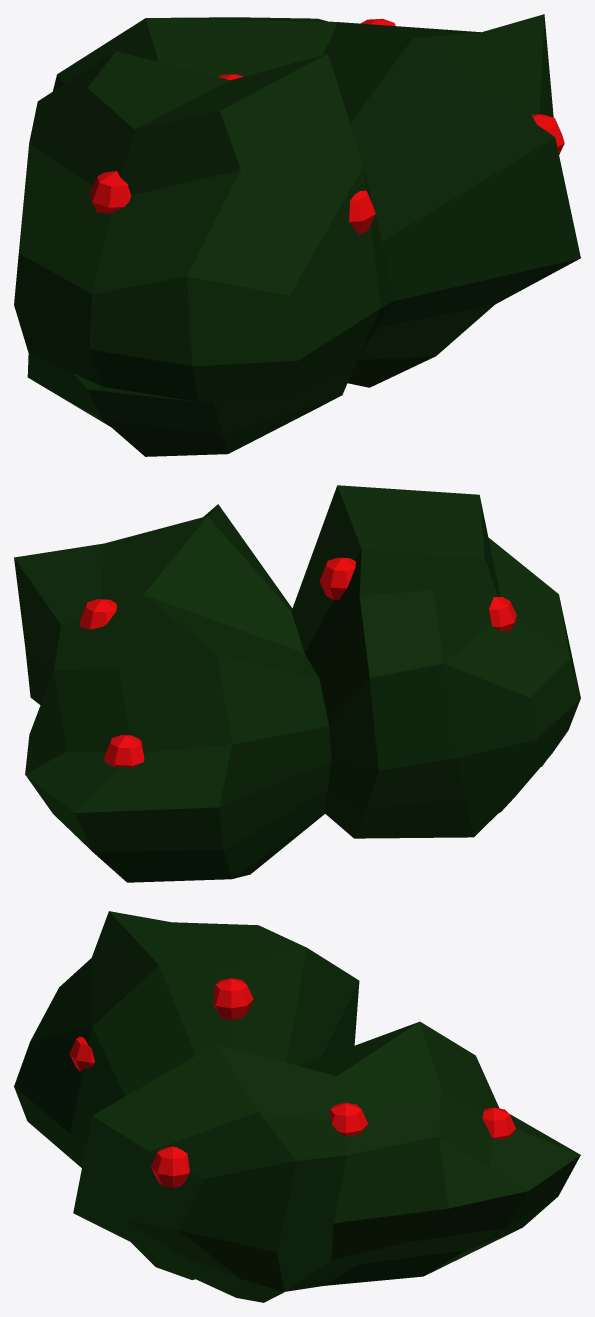
File: Bush_1.FBX
3 renders of one model, top to bottom at view 1: azimuth 30°, elevation 25°; view 2: azimuth 150°, elevation 25°; view 3: azimuth 270°, elevation 25°, orthographic. The views are drawn at different scales.
Parts seen in each view (by area): view 1: Bush_1, Sphere012, Sphere013; view 2: Bush_1, Sphere019, Sphere020, Berry, Sphere012; view 3: Bush_1, Sphere019, Sphere022, Berry, Sphere020, Sphere013.
Boxes of the visible parts, x1,y1,x2,y2 form: Bush_1: (14, 14, 580, 456); Sphere012: (89, 171, 130, 213); Sphere013: (349, 190, 375, 234); Bush_1: (14, 485, 580, 882); Sphere019: (319, 557, 355, 600); Sphere020: (103, 735, 144, 767); Berry: (79, 599, 116, 629); Sphere012: (489, 597, 516, 630); Bush_1: (14, 911, 580, 1302); Sphere019: (213, 978, 253, 1019); Sphere022: (151, 1146, 189, 1187); Berry: (329, 1103, 367, 1136); Sphere020: (482, 1107, 515, 1139); Sphere013: (69, 1036, 94, 1072).
Bounding box in the file's own units: 61.43 × 36.93 × 65.27.
